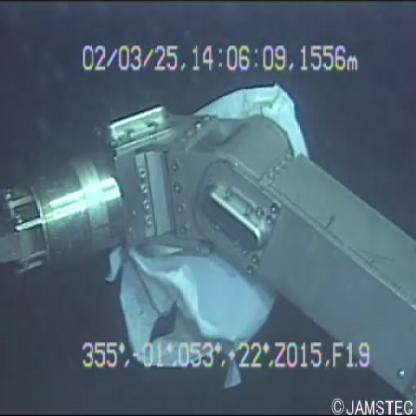Rov: (4, 91, 416, 409)
Rác: (102, 48, 319, 398)
